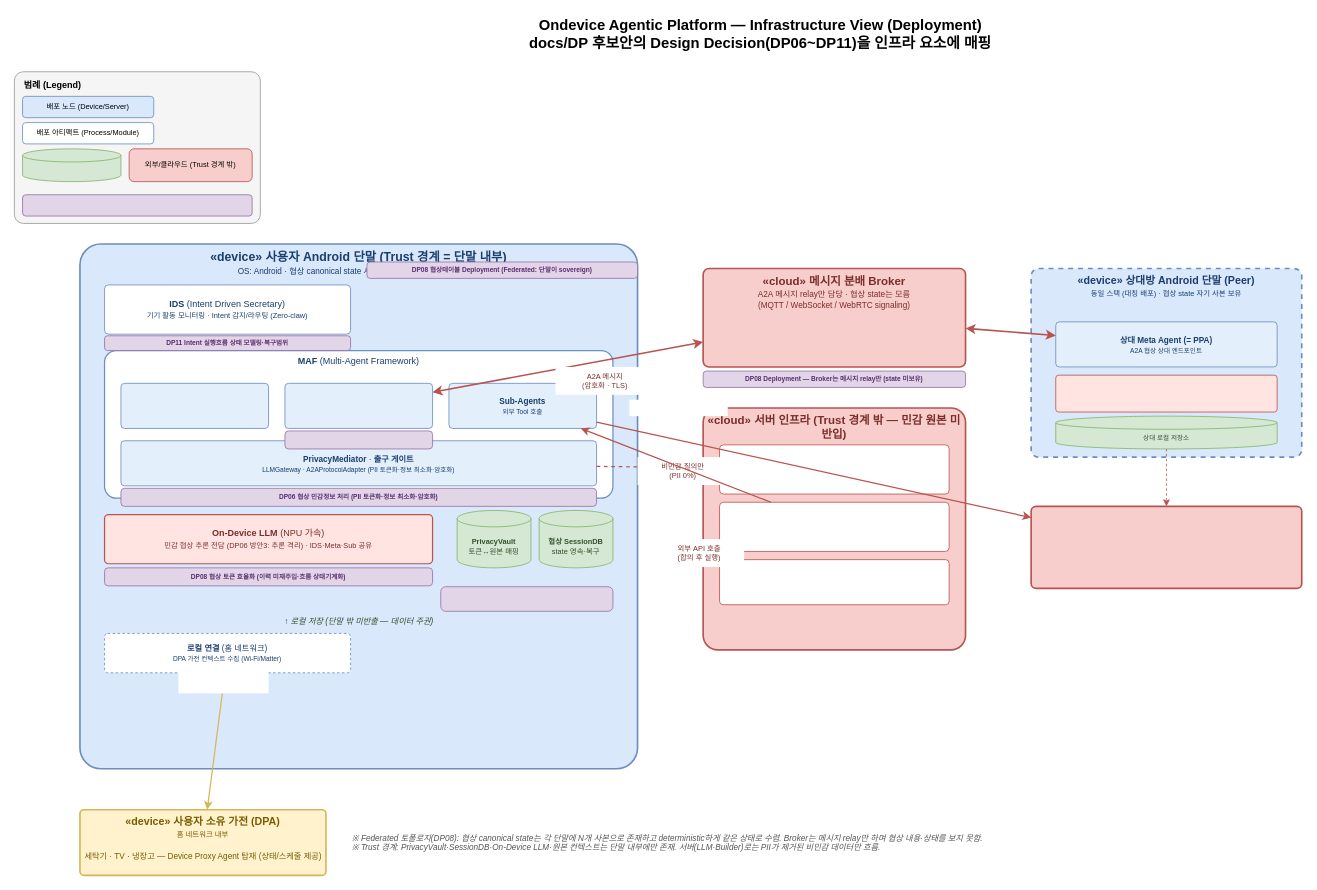
Some shapes in this 1317 by 890 pixel diagram are drawn without their labels. Here are the shapes that lost their labels. From the top down, the centre of each, then its label:
[71,165]: 저장소 (Local DB)
[137,205]: DP 후보안 (Design Decision) 매핑
[194,405]: Orchestrator Task 분해·계획
[358,405]: Meta Agent (= PPA) A2A 협상 주체 · 협상 state 관리
[678,407]: 서명된 APK/모듈 배포
[1166,393]: 상대 On-Device LLM
[358,439]: DP09 인텐트 변경·취소 동시성 제어
[834,469]: Server LLM 비민감 일반지식·무거운 계획만 (PII 0%)
[834,526]: Capability Builder Sub-Agent/Tool을 APK·모듈로 빌드 → 서명 → 배포
[1166,547]: «external» 외부 서비스 식당 예약 · 캘린더 · 결제 API (Sub-Agent가 호출)
[526,598]: DP07 장애 복구·완결성 (이벤트 소싱·체크포인트)
[834,582]: Capability Registry 빌드 산출물·버전·서명 보관
[223,680]: 로컬 컨텍스트 (Matter/Wi-Fi)
